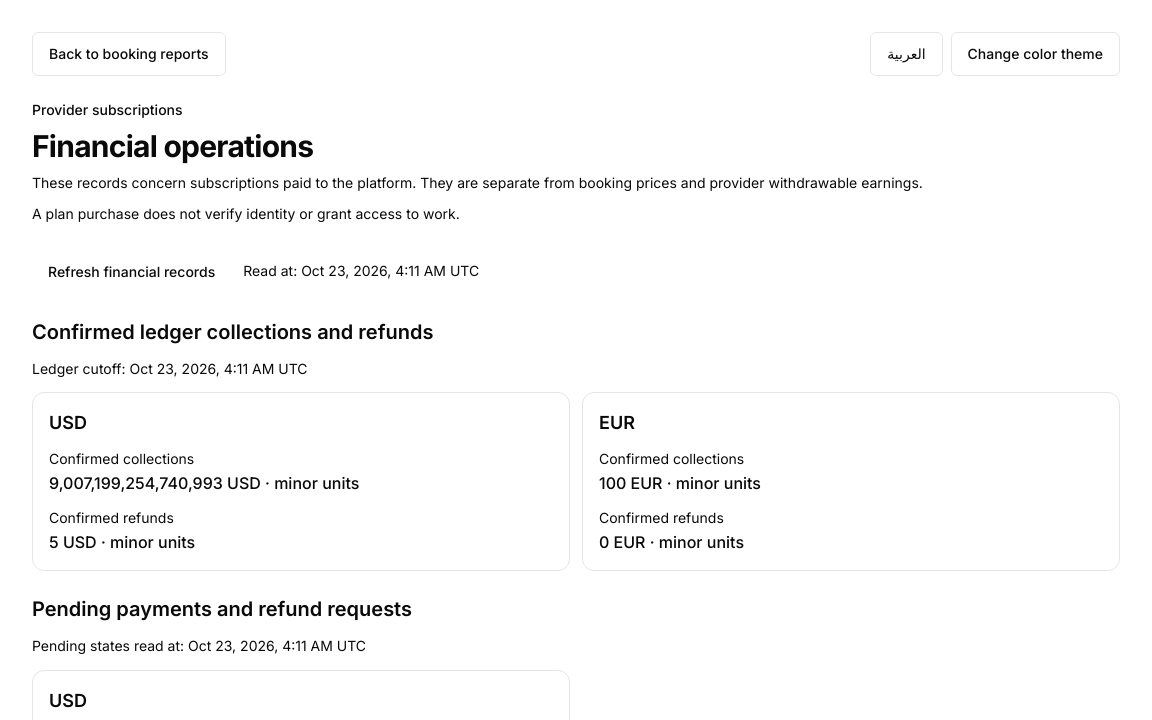
Test: financial operations states and interactions › renders permission changes immediately instead of continuing to show cached finance
The image size is (1152, 720).
Expected: the element with test id "ledger-total-USD" is shown, [32,392,570,571]
Click the button "Refresh financial records" at (132,272), box [32,250,231,294]
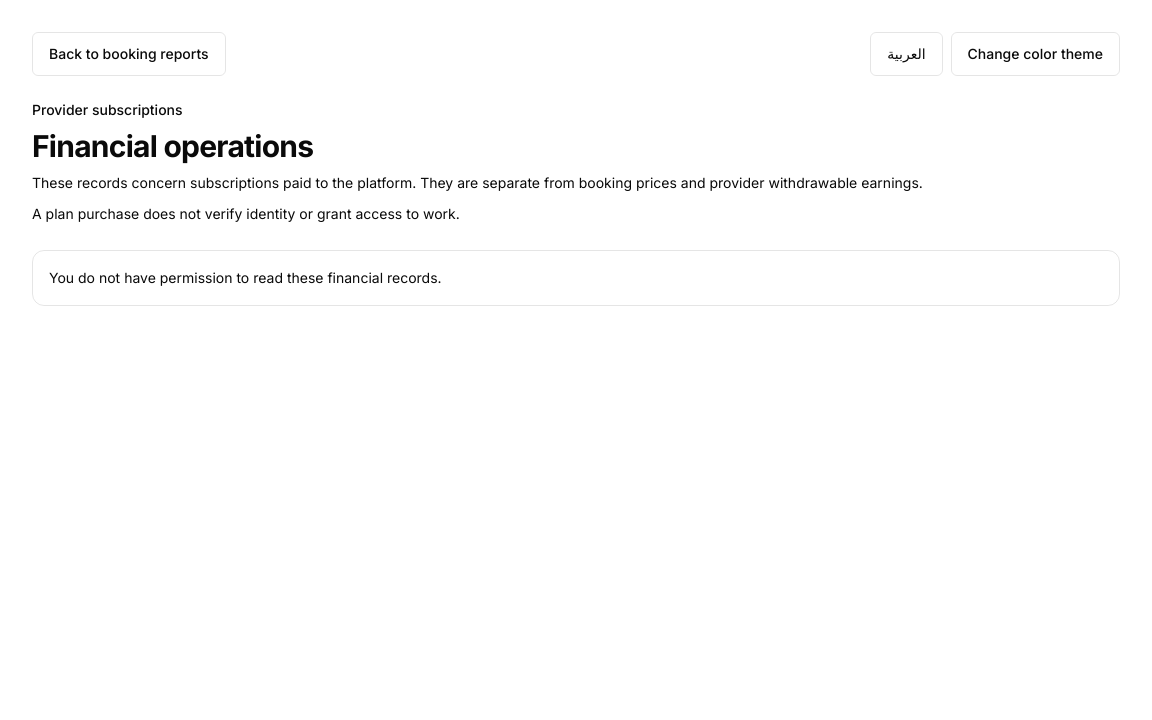
Result: the text "You do not have permission to read these financial records." is shown at [32,250,1120,306]
Result: the element with test id "ledger-total-USD" is gone
